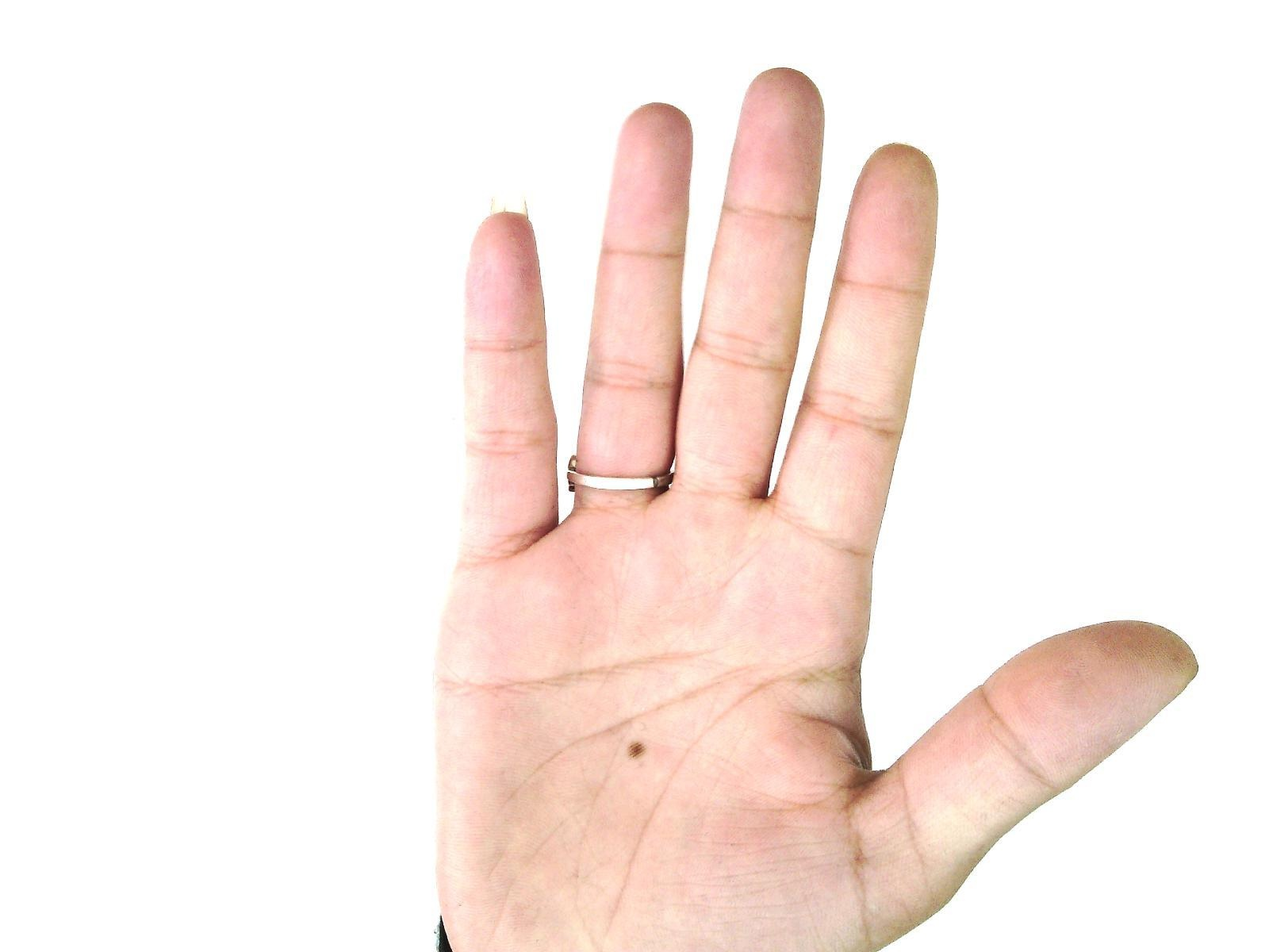open_palm: (427, 66, 1201, 951)
